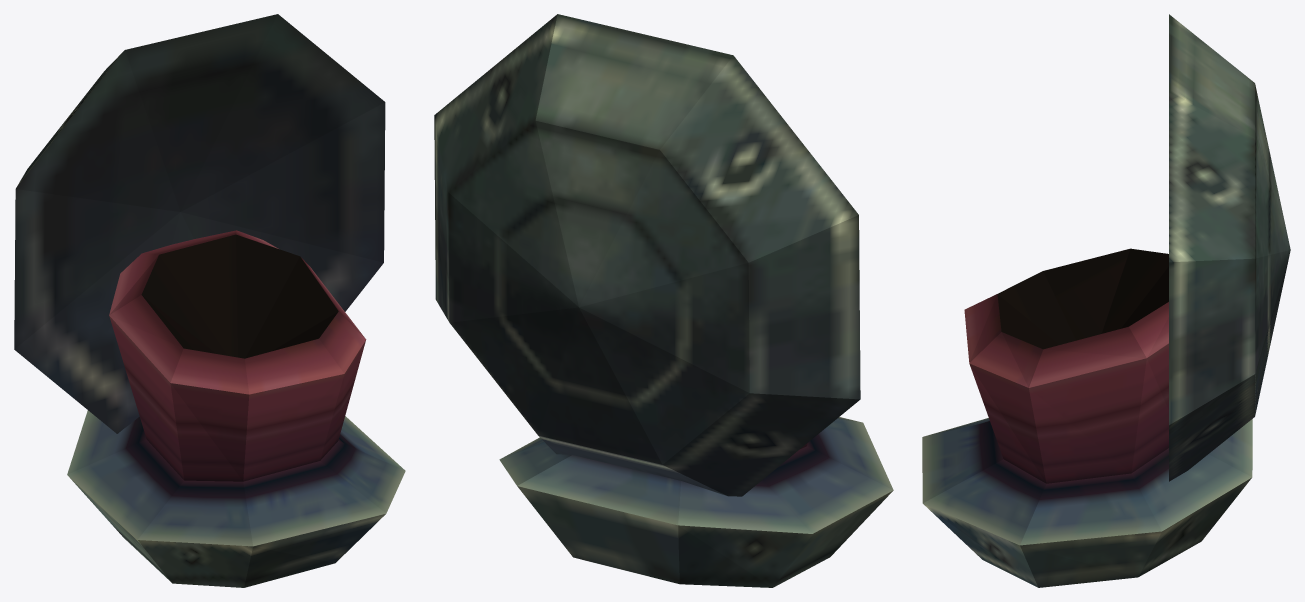
Rendered from Panda_strikeGauntlet_left.obj.
The picture shows the model from 3 angles, left to right: view 1: azimuth 30°, elevation 25°; view 2: azimuth 150°, elevation 25°; view 3: azimuth 270°, elevation 25°; orthographic projection. The views are drawn at different scales.
Parts seen in each view (by area): view 1: Panda_strikeGauntlet_tri [left]; view 2: Panda_strikeGauntlet_tri [left]; view 3: Panda_strikeGauntlet_tri [left].
Part boxes in pixels (x1,y1,x2,y2): Panda_strikeGauntlet_tri [left]: (14, 14, 405, 587); Panda_strikeGauntlet_tri [left]: (434, 14, 893, 587); Panda_strikeGauntlet_tri [left]: (922, 14, 1290, 587).
Size of the model in its own units: 0.2242 by 0.2926 by 0.1886.
1 material, 1 textured.
